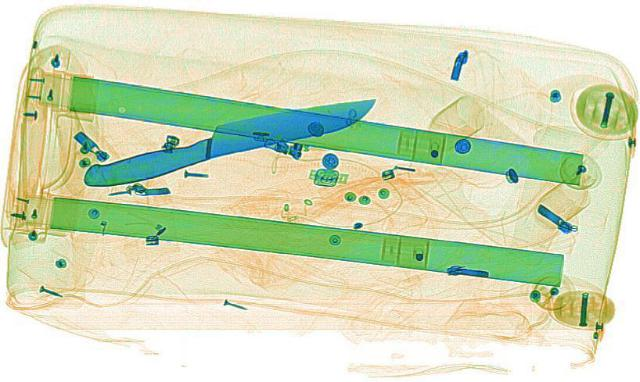Knife: (64, 87, 394, 191)
